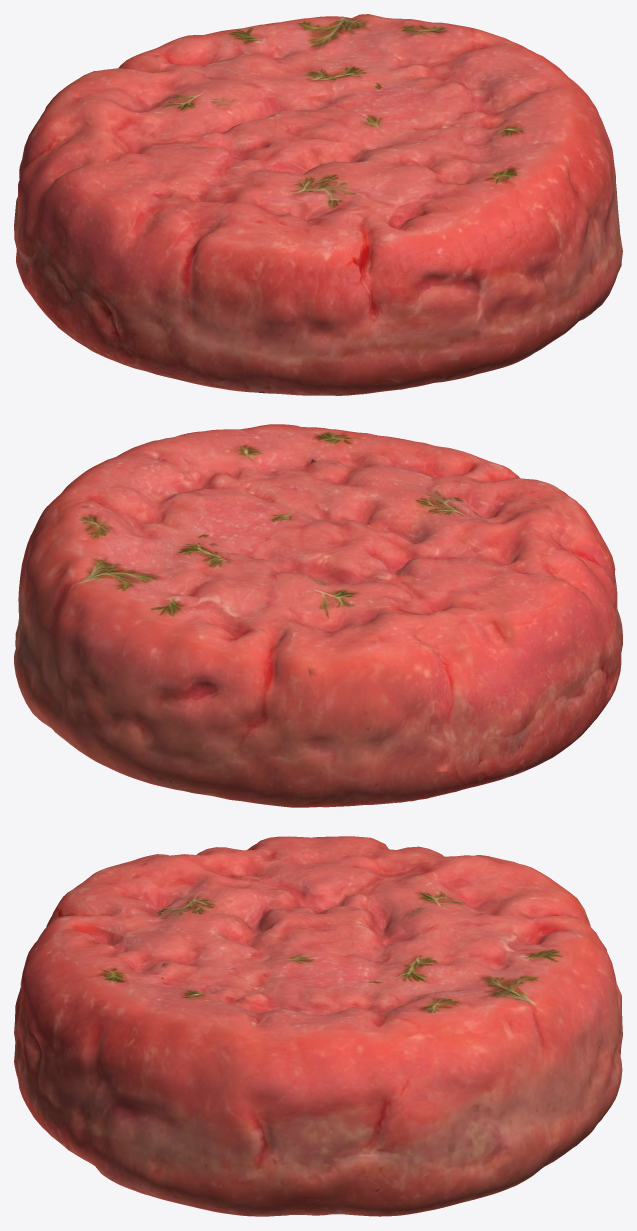
File: ingredient-patty.glb
The picture shows the model from 3 angles, top to bottom: view 1: azimuth 30°, elevation 25°; view 2: azimuth 150°, elevation 25°; view 3: azimuth 270°, elevation 25°; orthographic projection. The views are drawn at different scales.
Visible parts, largest first — view 1: Object_4; view 2: Object_4; view 3: Object_4.
Boxes of the visible parts, left/top/right/bottom form: Object_4: left=14, top=14, right=622, bottom=395; Object_4: left=14, top=424, right=622, bottom=807; Object_4: left=14, top=836, right=622, bottom=1216.
Bounding box in the file's own units: 1.25 × 0.4393 × 1.25.
1 material, 1 textured.
